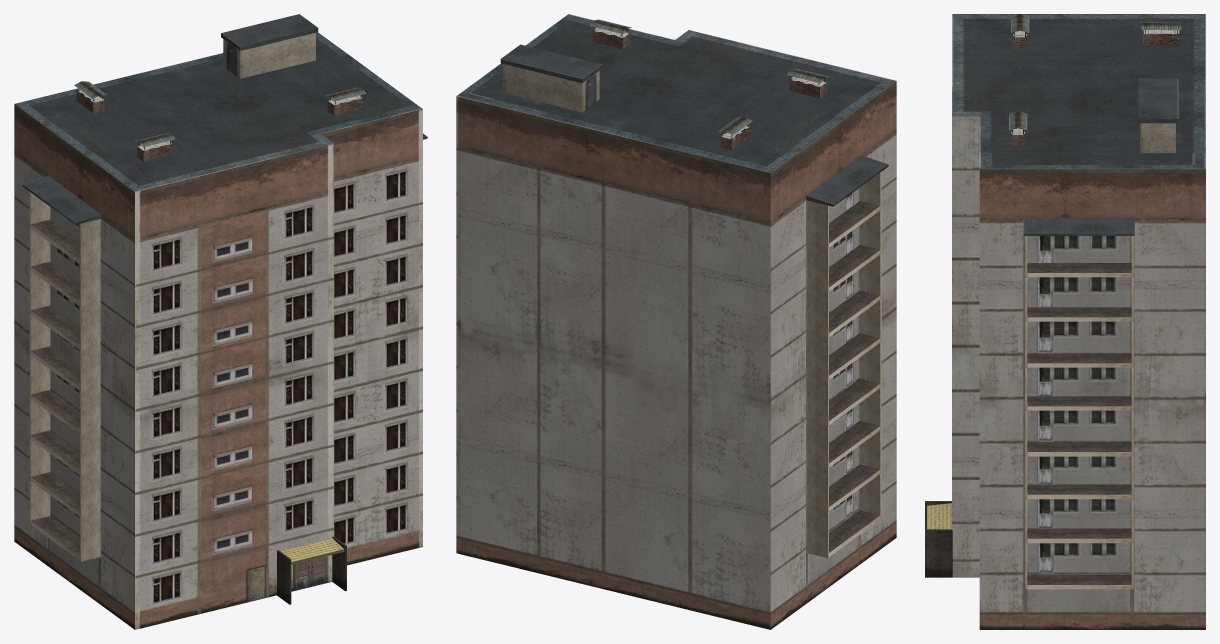
The picture shows the model from 3 angles, left to right: view 1: azimuth 30°, elevation 25°; view 2: azimuth 150°, elevation 25°; view 3: azimuth 270°, elevation 25°; orthographic projection. The views are drawn at different scales.
Visible parts, largest first — view 1: b3; view 2: b3; view 3: b3.
Boxes of the visible parts, x1=… form: b3: x1=14, y1=14, x2=427, y2=629; b3: x1=456, y1=14, x2=896, y2=629; b3: x1=925, y1=14, x2=1205, y2=629.
Bounding box in the file's own units: 25.85 × 33.01 × 16.92.
1 material, 1 textured.
